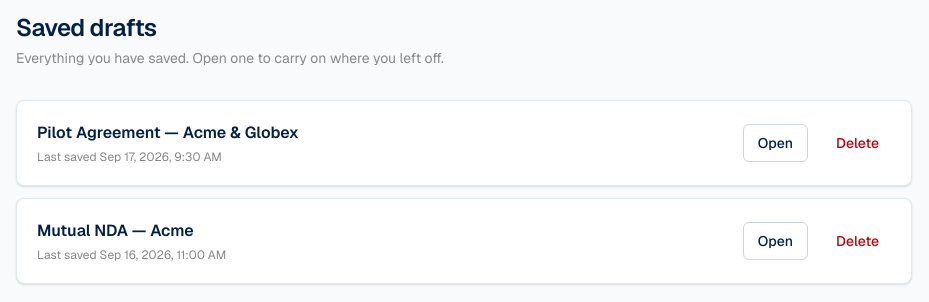
the saved drafts page › deletes a draft once, after asking
Check: the heading "Pilot Agreement — Acme & Globex" is shown, box [37,122,299,143]
What coordinates should you click on to do the following:
click the button "Delete" in the row of "Pilot Agreement — Acme & Globex"
I would click on:
 (857, 143)
Its box is [824,125,891,161].
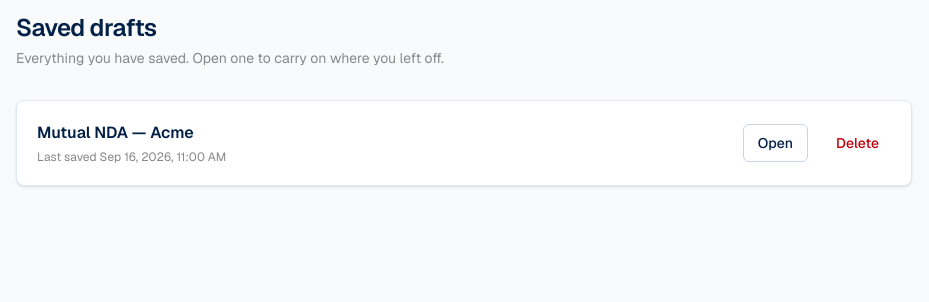
Check: the heading "Mutual NDA — Acme" is shown, box [37,122,194,143]
Check: the heading "Pilot Agreement — Acme & Globex" is gone
